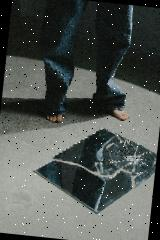glass: (30, 121, 158, 220)
